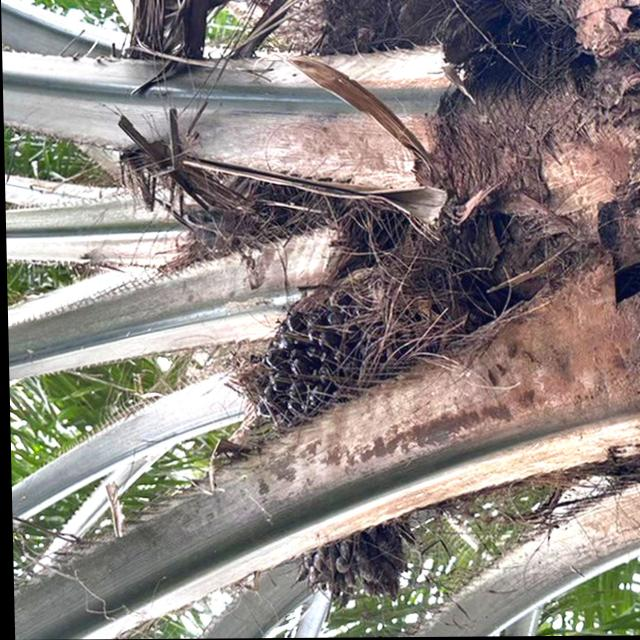almost: (241, 244, 455, 429)
